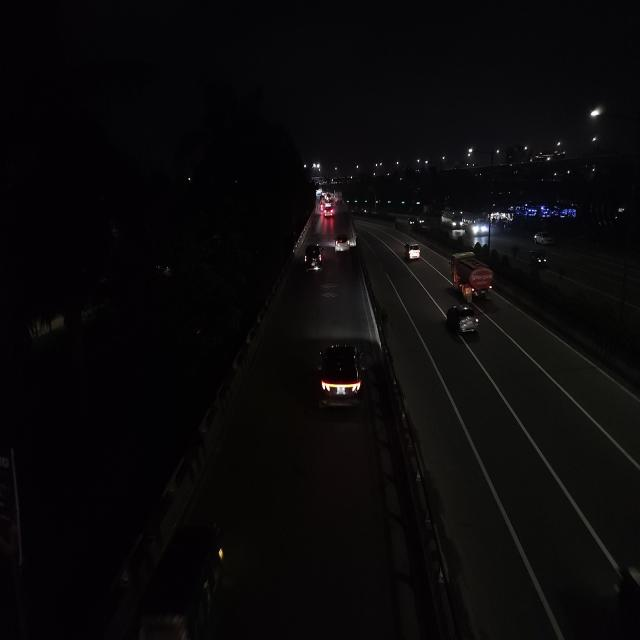bus: (464, 212, 490, 237), (442, 209, 464, 236)
car: (139, 514, 226, 640), (314, 338, 364, 413), (445, 302, 481, 338), (302, 241, 324, 273), (333, 233, 352, 255), (404, 240, 422, 263), (533, 229, 555, 247), (322, 207, 335, 220), (408, 216, 418, 229)
cng: (530, 248, 548, 269)
truck: (450, 253, 496, 299)
